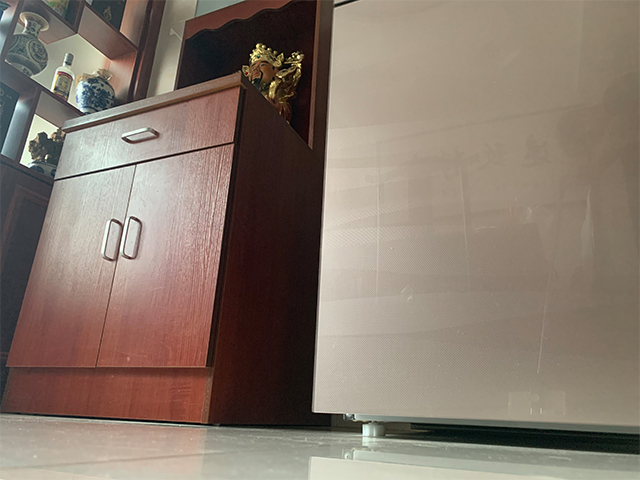cabinet: (3, 81, 334, 430)
